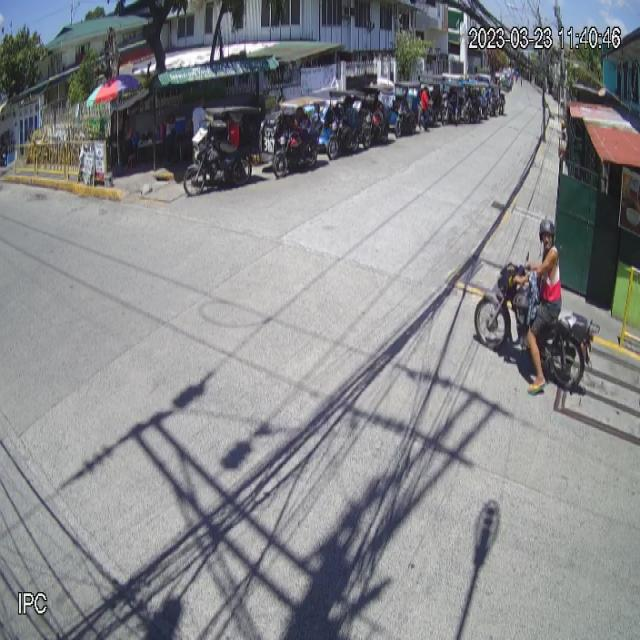Motorcycle: (474, 252, 601, 389)
